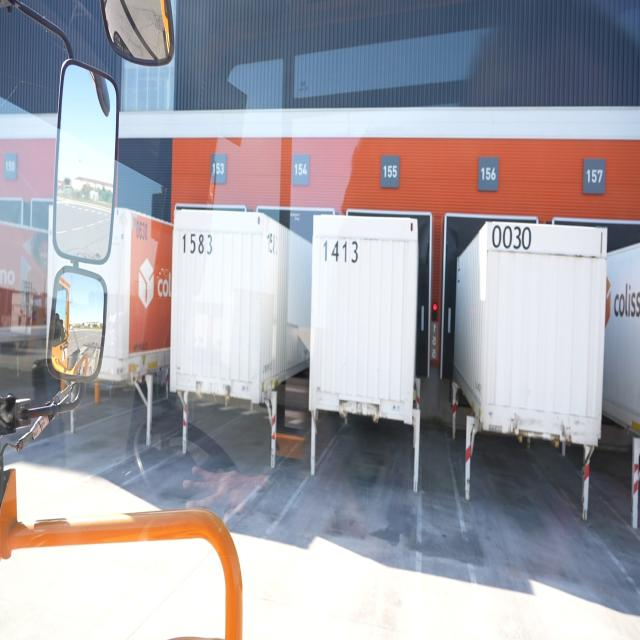Code: (317, 231, 362, 268), (489, 221, 534, 256), (178, 227, 216, 261), (132, 212, 154, 243)
